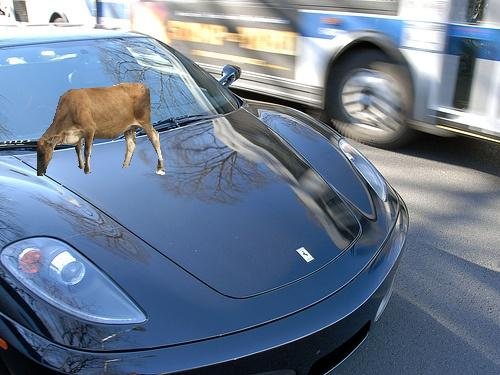tampered: (38, 84, 165, 176)
